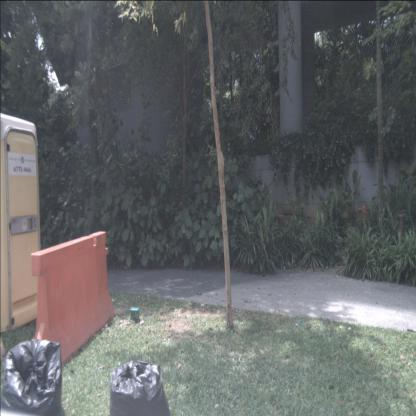movable_object-barrier: (31, 231, 116, 370)
